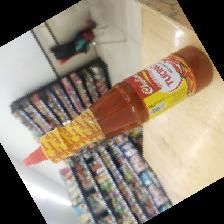Tuong: (20, 43, 224, 169)
